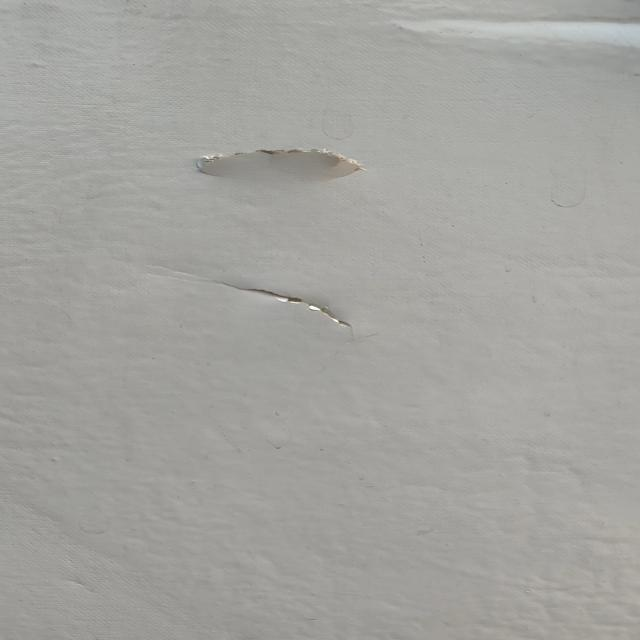Dents or Deformation: (404, 8, 640, 67)
Scratches: (161, 123, 375, 191), (201, 268, 345, 339)
